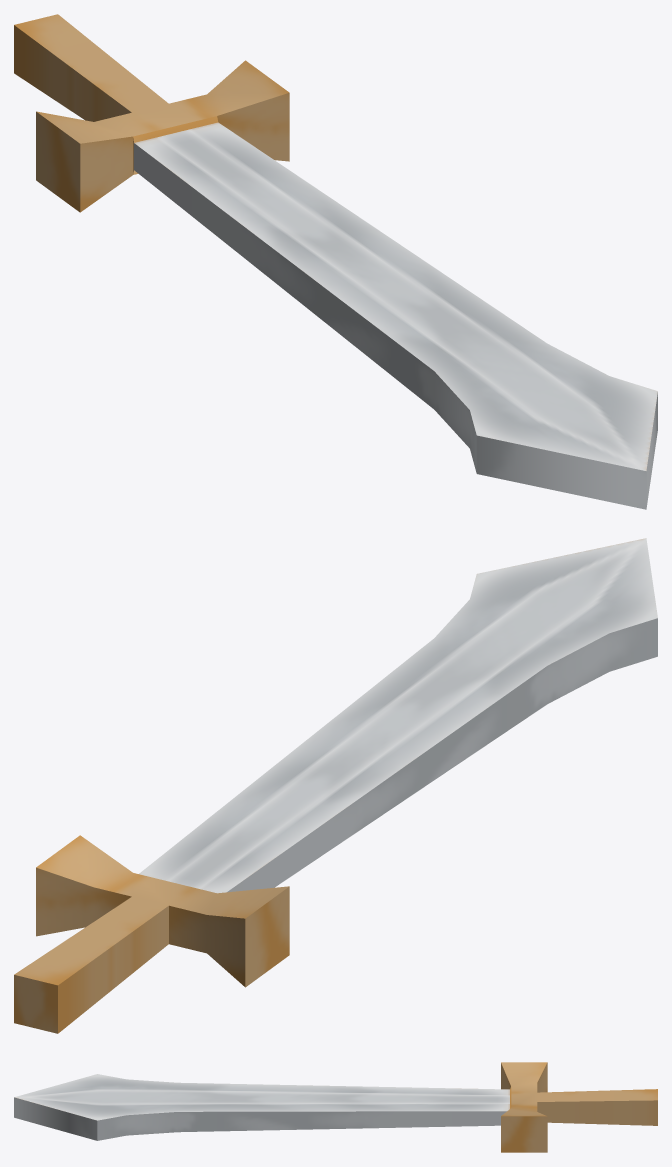
File: sword.fbx
3 renders of one model, top to bottom at view 1: azimuth 30°, elevation 25°; view 2: azimuth 150°, elevation 25°; view 3: azimuth 270°, elevation 25°, orthographic. The views are drawn at different scales.
Visible parts, largest first — view 1: sword; view 2: sword; view 3: sword.
Boxes of the visible parts, x1,y1,x2,y2 form: sword: (14,14,657,509); sword: (14,538,657,1033); sword: (14,1062,657,1152).
Size of the model in its own units: 1.39 by 0.4375 by 7.02.
